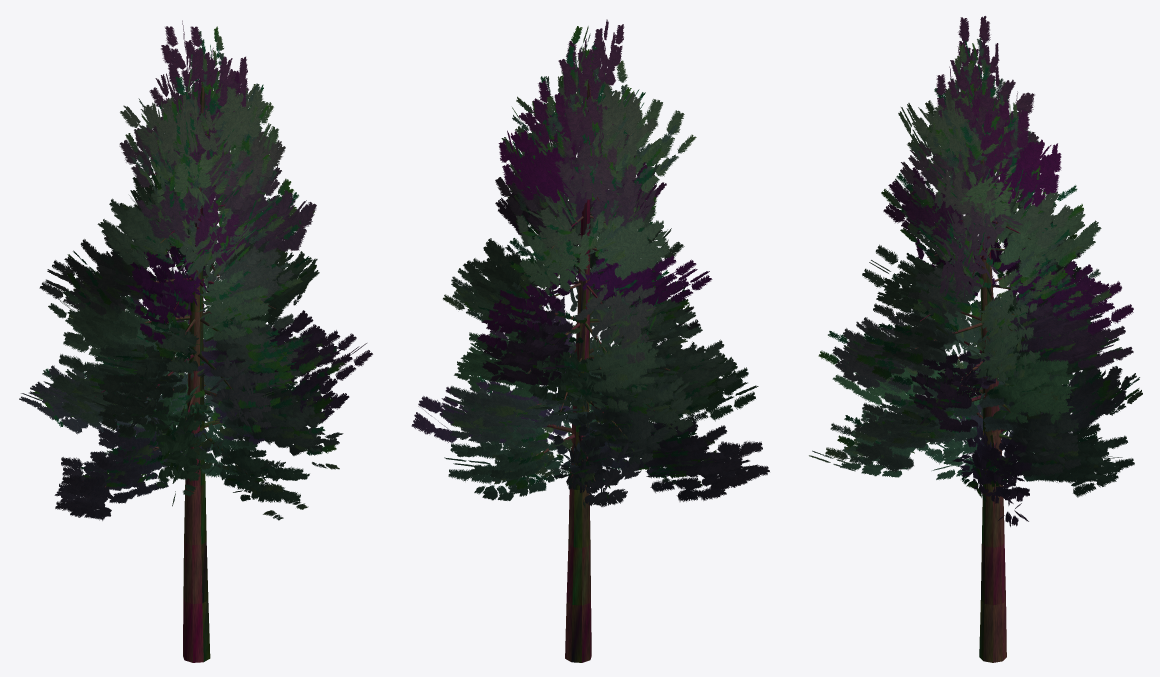
File: nat_pine_c_LOD0.glb
3 renders of one model, left to right at view 1: azimuth 30°, elevation 25°; view 2: azimuth 150°, elevation 25°; view 3: azimuth 270°, elevation 25°, orthographic. The views are drawn at different scales.
Visible parts, largest first — view 1: nat_pine_c_LOD0; view 2: nat_pine_c_LOD0; view 3: nat_pine_c_LOD0.
Boxes of the visible parts, bbox=[...] form: nat_pine_c_LOD0: bbox=[19, 20, 372, 662]; nat_pine_c_LOD0: bbox=[411, 19, 769, 662]; nat_pine_c_LOD0: bbox=[809, 16, 1142, 662].
Size of the model in its own units: 7.72 by 14.35 by 7.1.
2 materials, 2 textured.
